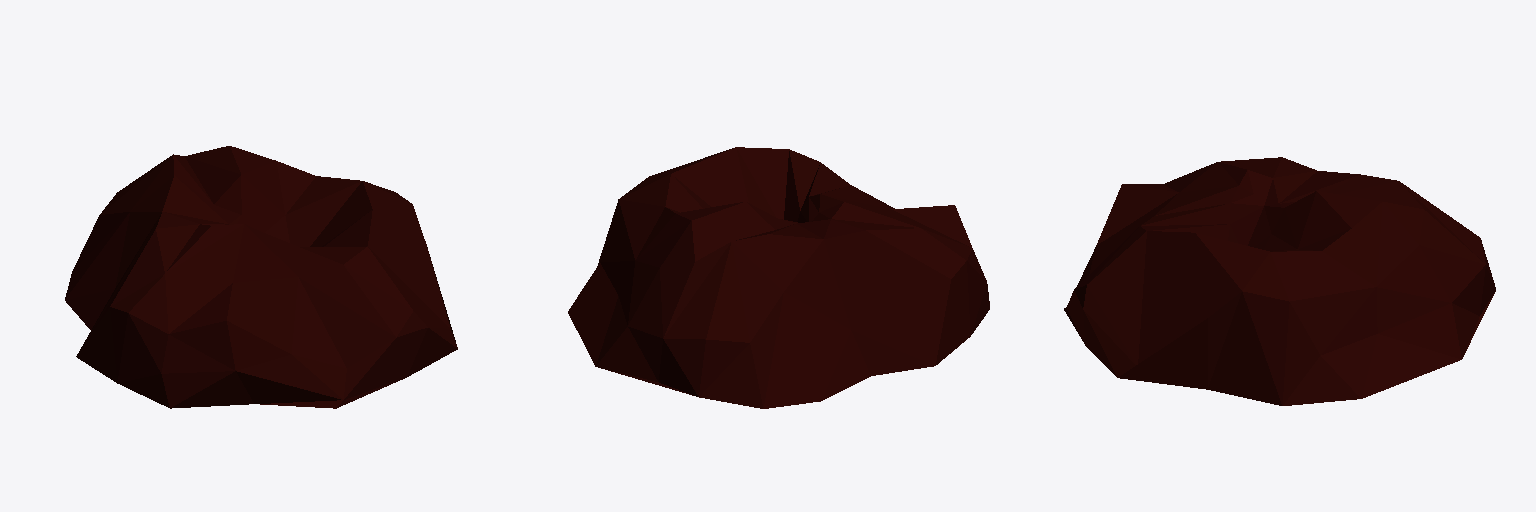
Rendered from SilverDust.obj.
The picture shows the model from 3 angles: view 1: azimuth 30°, elevation 25°; view 2: azimuth 150°, elevation 25°; view 3: azimuth 270°, elevation 25°; orthographic projection.
Parts seen in each view (by area): view 1: IronDustPile; view 2: IronDustPile; view 3: IronDustPile.
Part boxes in pixels (x1,y1,x2,y2): IronDustPile: (65, 146, 457, 408); IronDustPile: (568, 147, 989, 408); IronDustPile: (1064, 157, 1495, 405).
Bounding box in the file's own units: 0.2549 × 0.0938 × 0.2749.